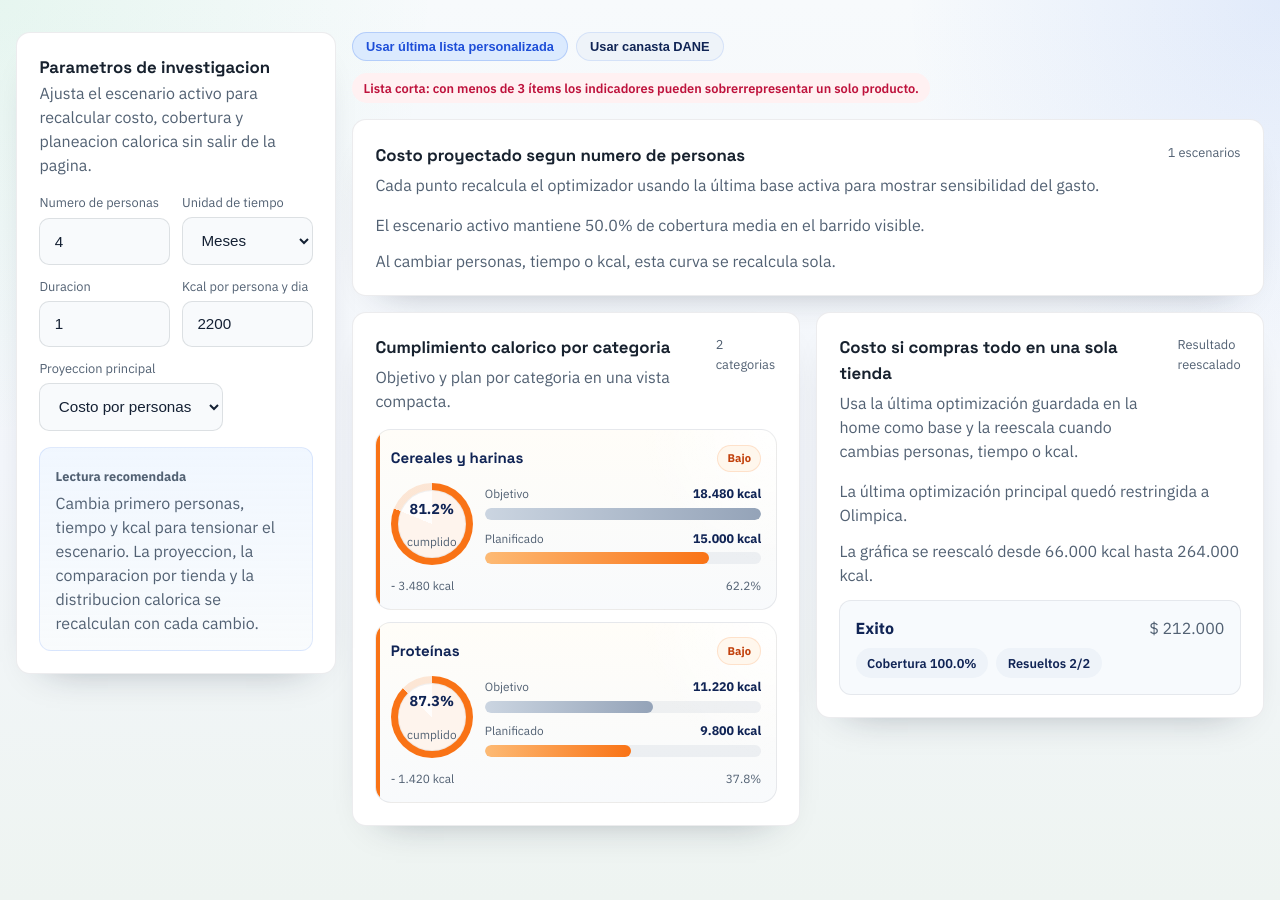
Statistics page › reescala la gráfica por tienda guardada cuando cambian los parámetros de investigación
Expected: the text "La gráfica se reescaló desde 66.000 kcal hasta 264.000 kcal." is shown, [839,538,1241,586]
Replace the text in the number field labelled "Numero de personas" with "2": (105, 242) [39,218,170,265]
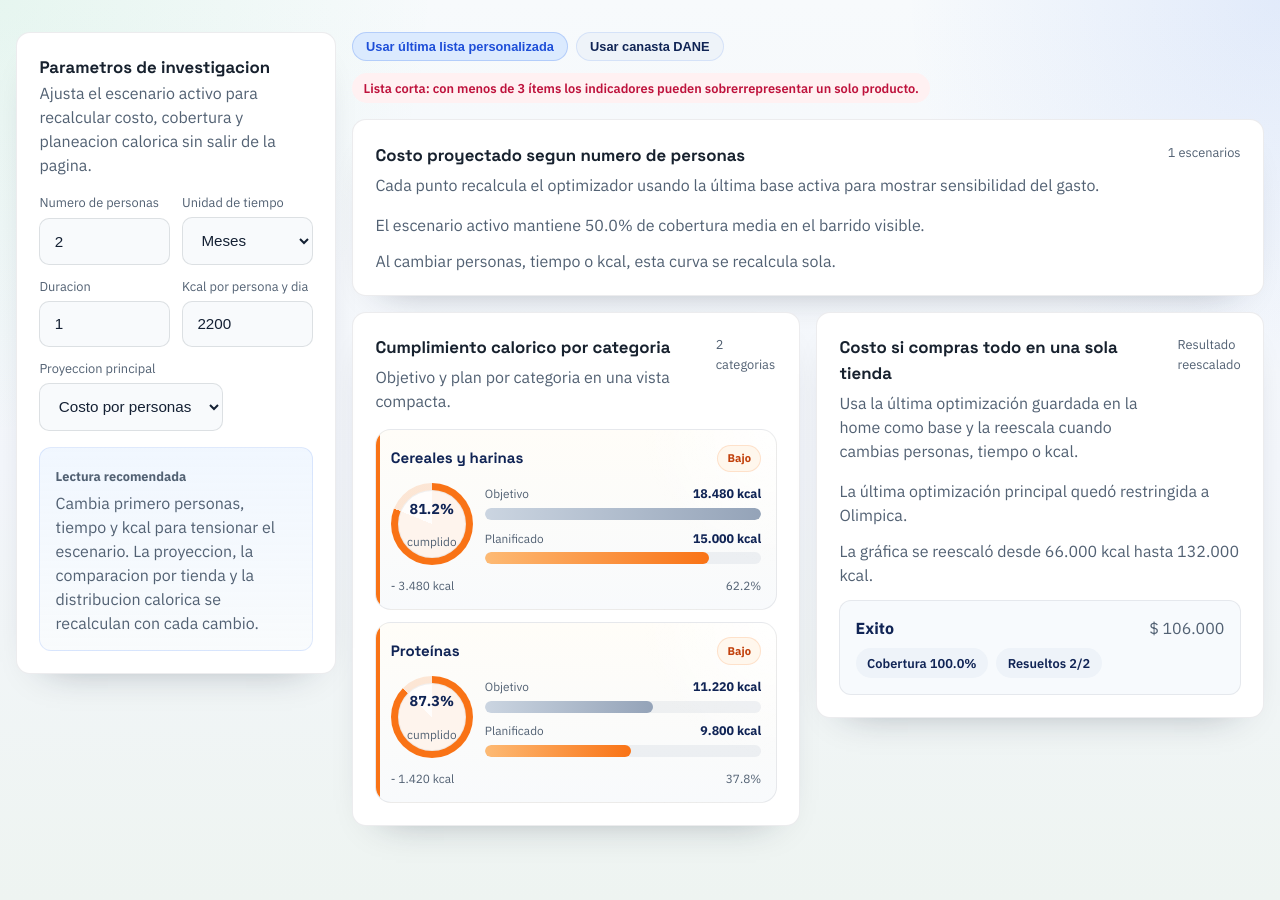
Expected: the text "La gráfica se reescaló desde 66.000 kcal hasta 132.000 kcal." is shown, [839,538,1241,586]
